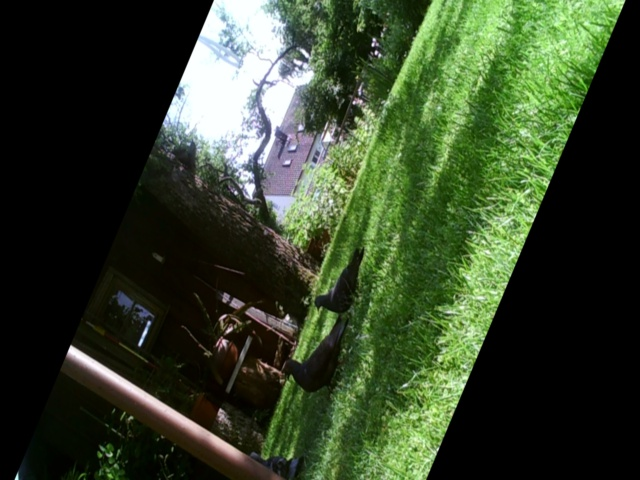Pigeon: (282, 315, 352, 398), (315, 244, 369, 318)
